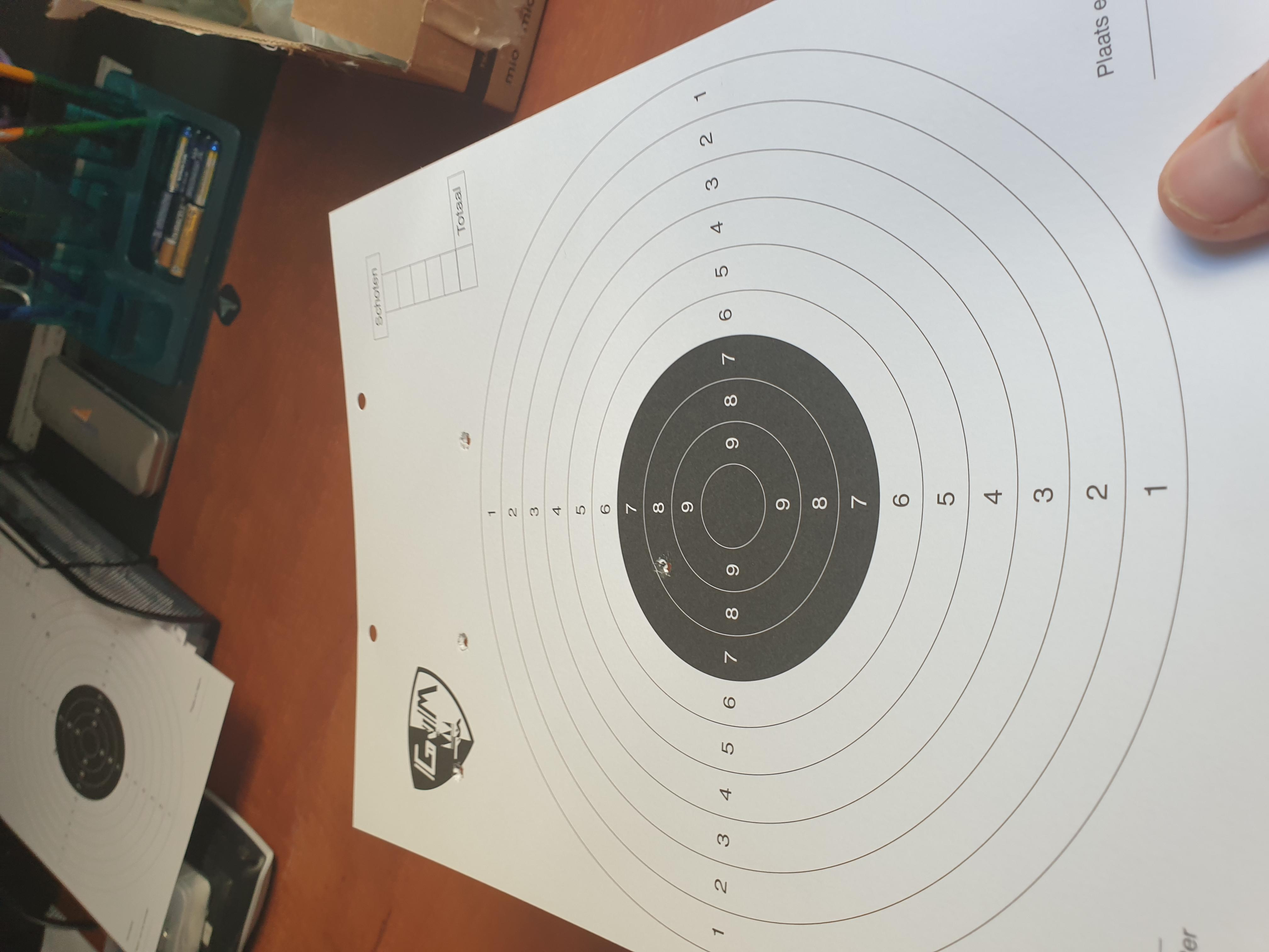hole: (664, 341, 699, 358), (498, 489, 533, 505), (227, 336, 256, 352), (400, 342, 427, 353)
